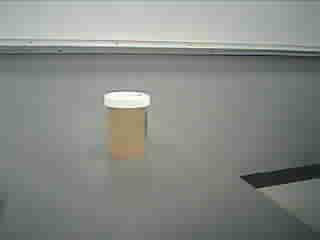Bottle B: (100, 81, 155, 168)
